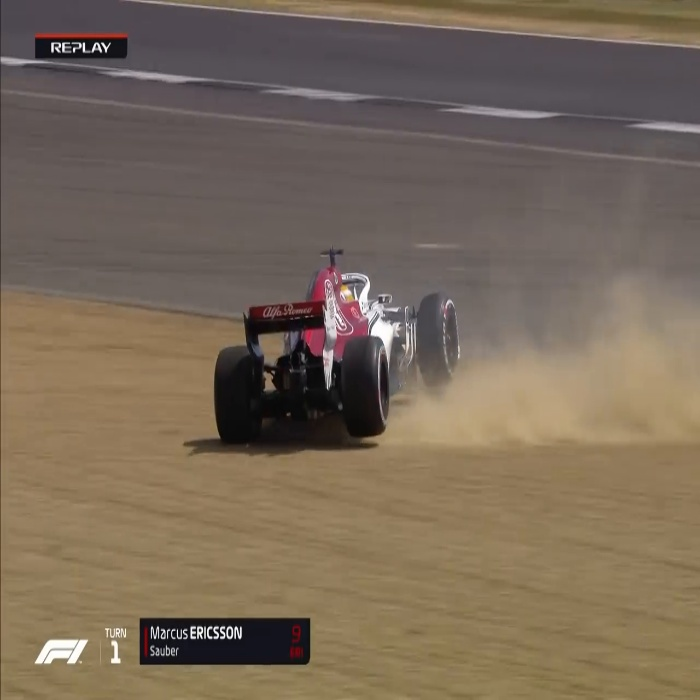f1_car: (194, 234, 504, 467)
